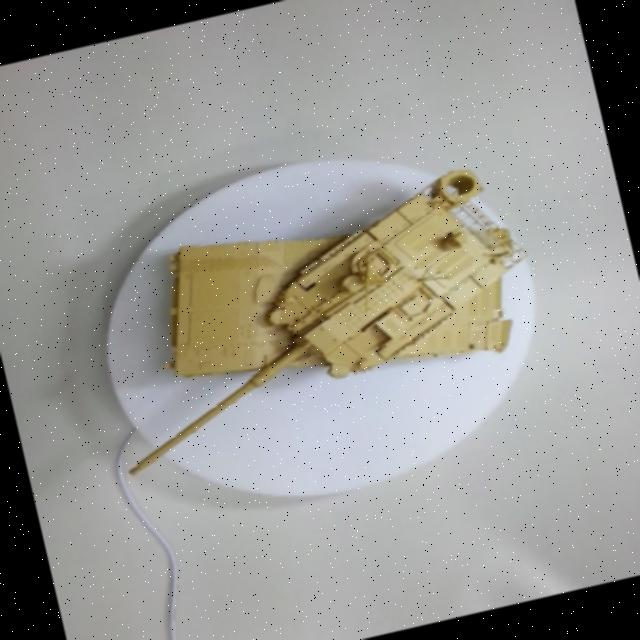korea tank: (70, 104, 587, 564)
